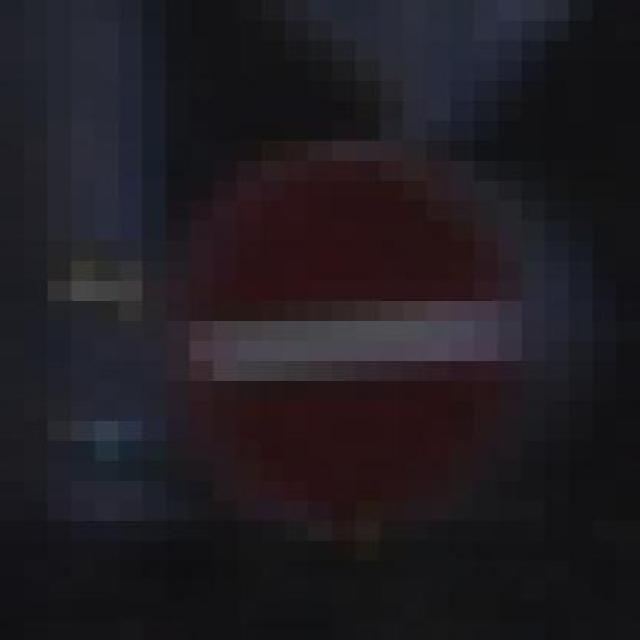B2: (168, 152, 534, 540)
